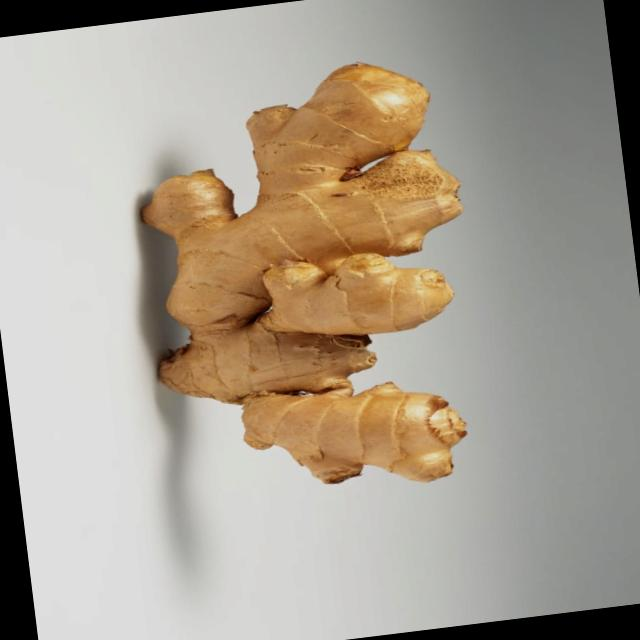ginger-root: (96, 41, 511, 542)
